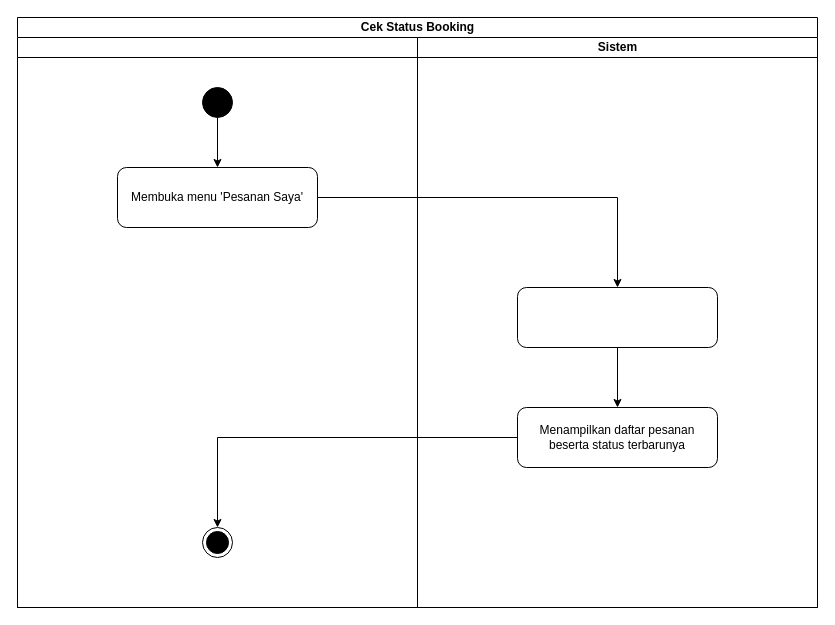
This 835x625 diagram has some shape labels left out. Here are the shapes that lost their labels. From the top down, the box of each, then its label:
(16, 36, 418, 608): Pengguna
(516, 286, 718, 348): Mengambil data pesanan pengguna dari database
